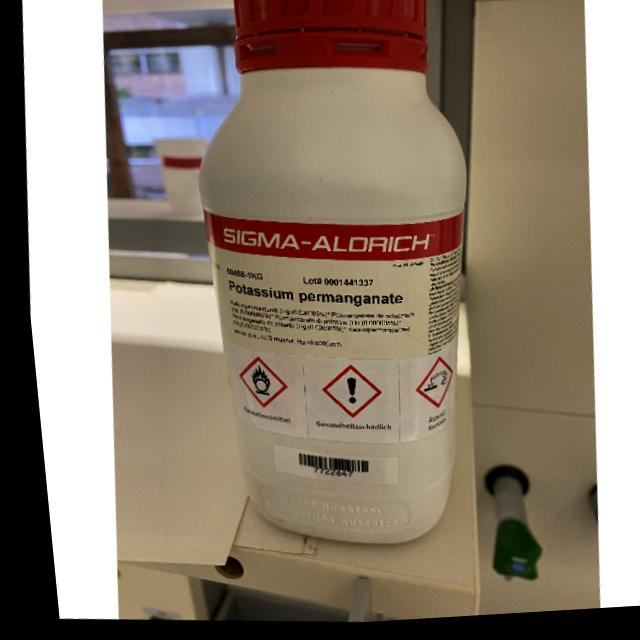corrosive: (414, 373, 443, 399)
health-ozone layer hazard: (336, 380, 350, 408)
oxidising: (242, 367, 263, 400)
